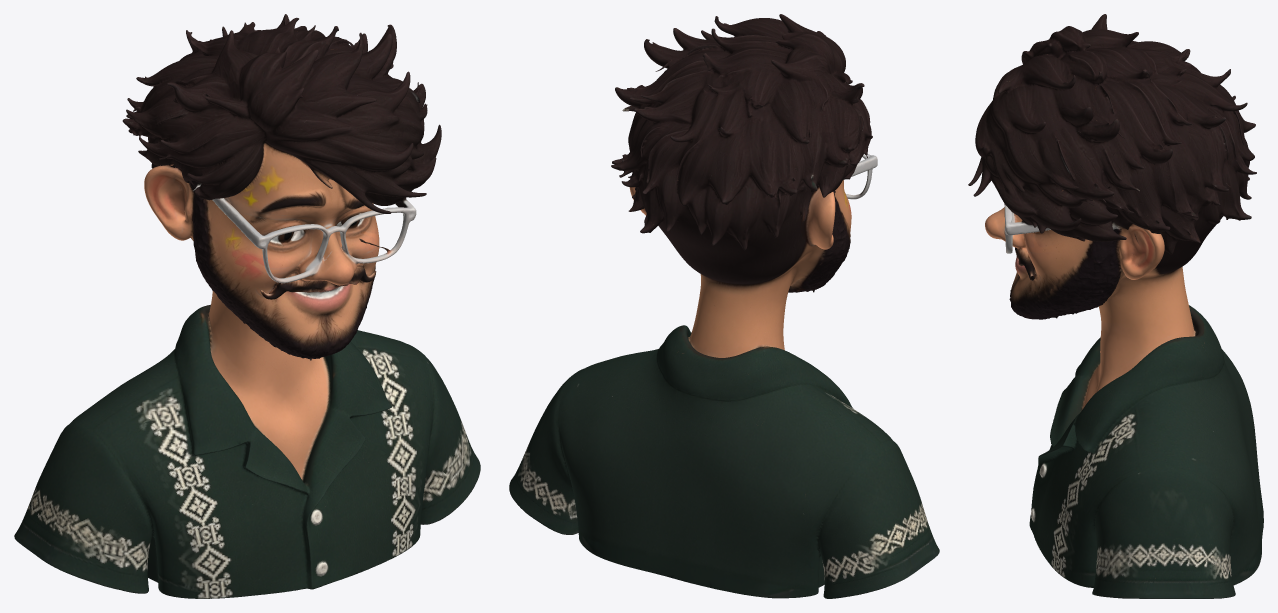
File: avatar-original.glb
3 views of the same model, side by side, from view 1: azimuth 30°, elevation 25°; view 2: azimuth 150°, elevation 25°; view 3: azimuth 270°, elevation 25° (orthographic). The views are drawn at different scales.
Size of the model in its own units: 1.62 by 1.9 by 1.04.
1 material, 1 textured.
